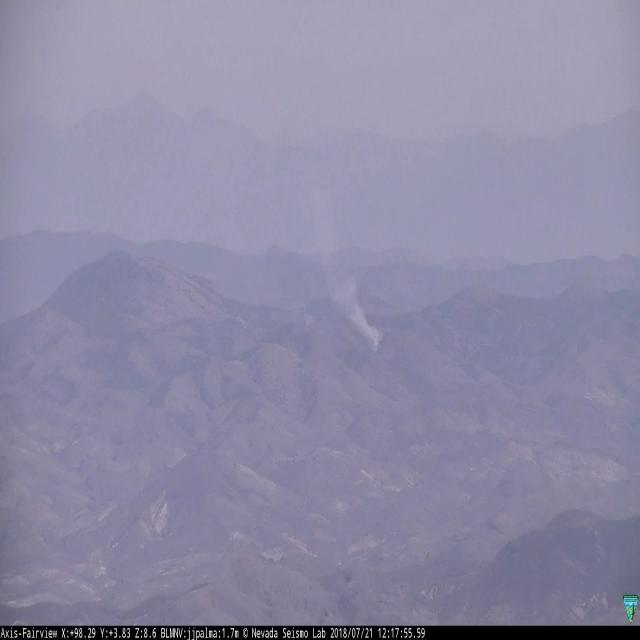smoke: (317, 194, 388, 352)
